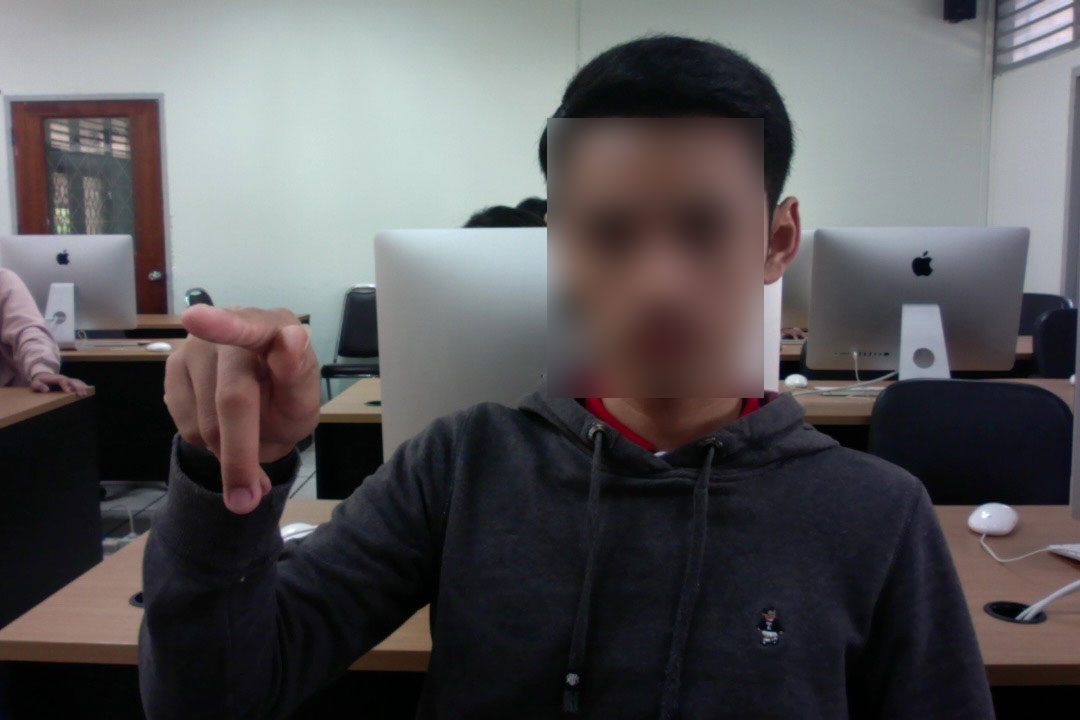por: (158, 287, 325, 521)
